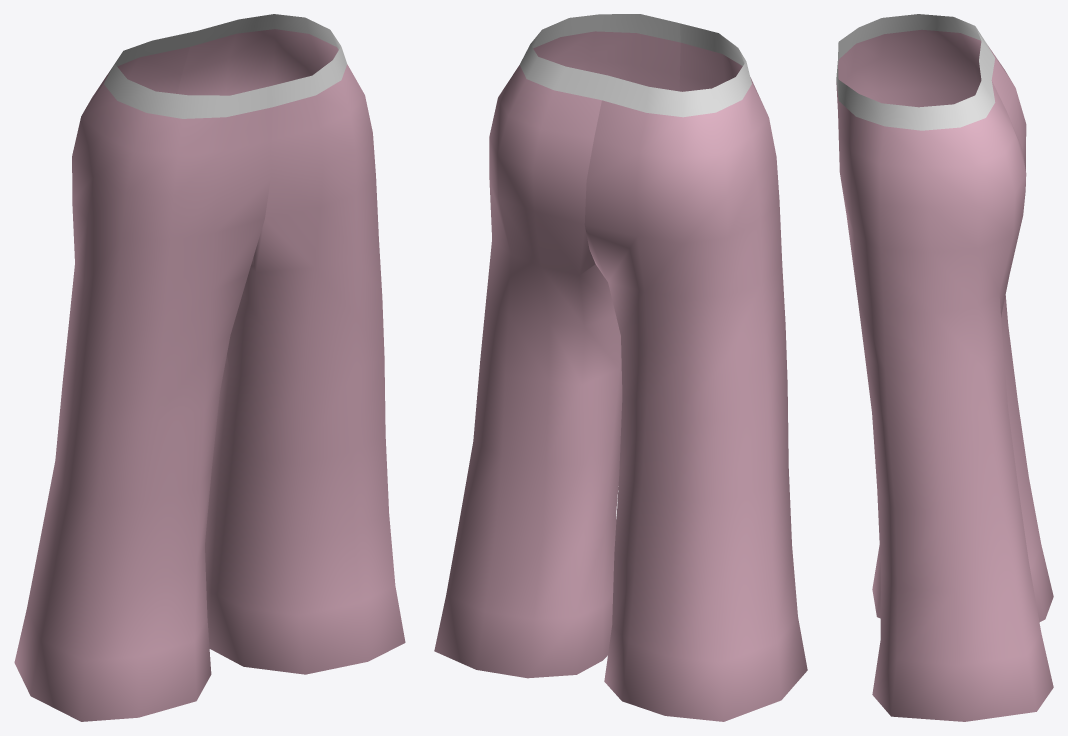
File: palazzo.glb
3 renders of one model, left to right at view 1: azimuth 30°, elevation 25°; view 2: azimuth 150°, elevation 25°; view 3: azimuth 270°, elevation 25°, orthographic. The views are drawn at different scales.
Visible parts, largest first — view 1: palazzo; view 2: palazzo; view 3: palazzo.
Part boxes in pixels (left/top/right/bottom): palazzo: left=14, top=14, right=405, bottom=721; palazzo: left=434, top=14, right=807, bottom=721; palazzo: left=836, top=14, right=1053, bottom=721.
Bounding box in the file's own units: 0.4298 × 0.7297 × 0.2474.
